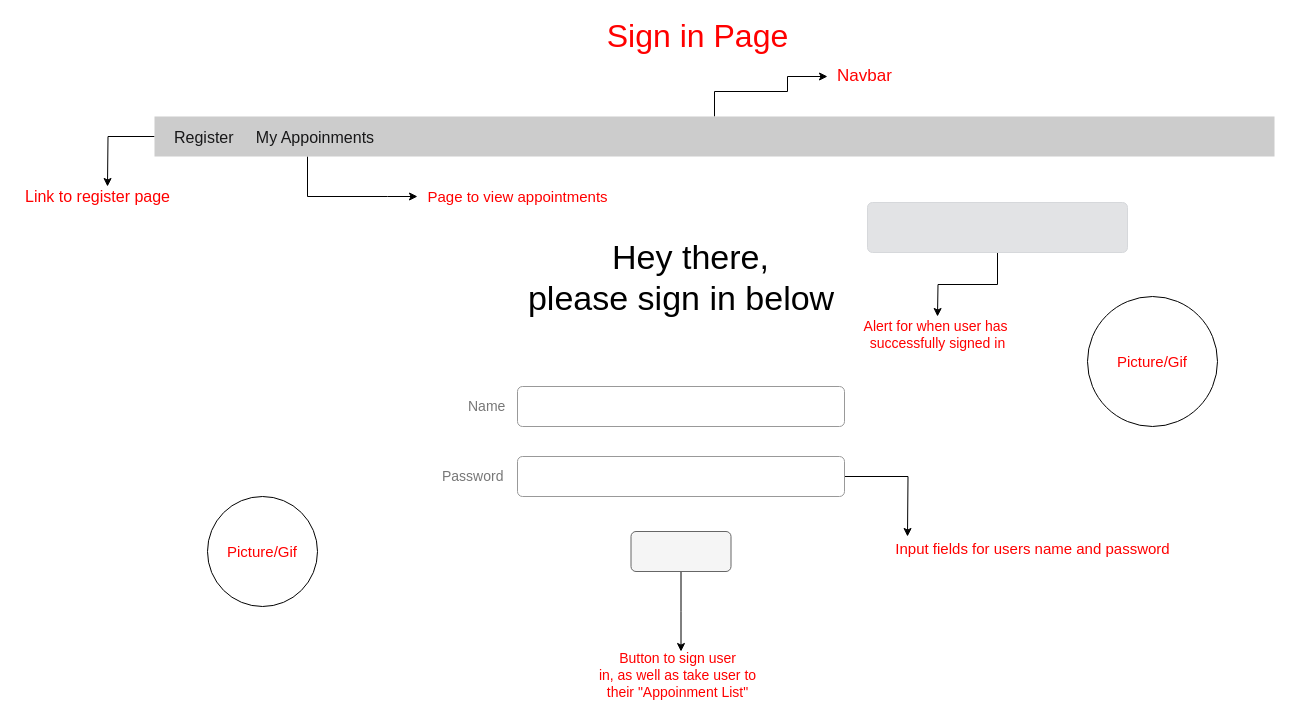
Image size: 1291x717. Some labels were removed from this diagram. Each missing label, with the centre of its shape:
"Good day doctor (name), you have signed in successfully. Have a great day!" belongs at pixel 997 227.
"Sign in" belongs at pixel 680 551.
